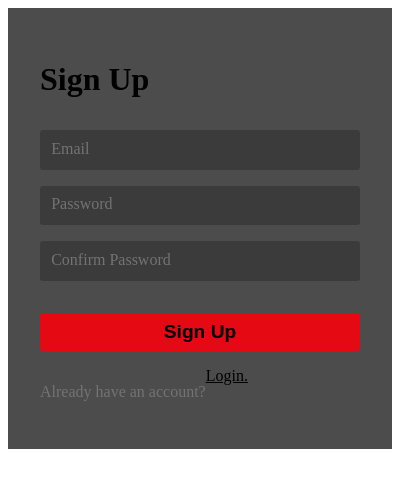
Scenario: SignUp Test › check password length error
Expected: the number of headings "Sign Up" is 2, [40, 61, 149, 97]; [40, 313, 360, 351]
In the field with test id "email": (202, 150) [51, 142, 353, 159], type "prathapskt@gmail.com"
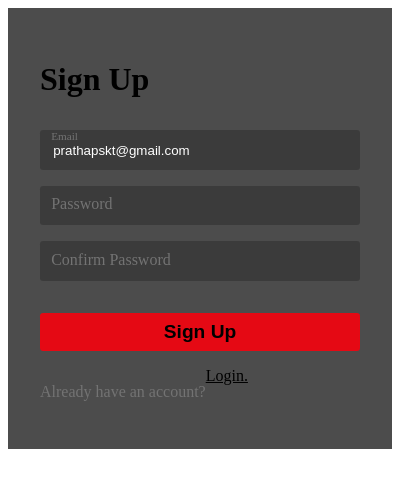
In the password field with test id "password": (202, 206) [51, 197, 353, 214], type "123"
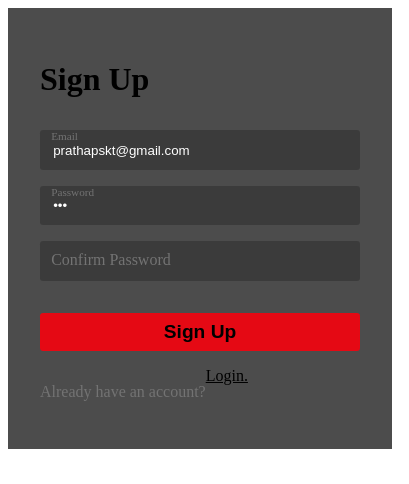
In the password field with test id "confirmPassword": (202, 261) [51, 252, 353, 269], type "123"
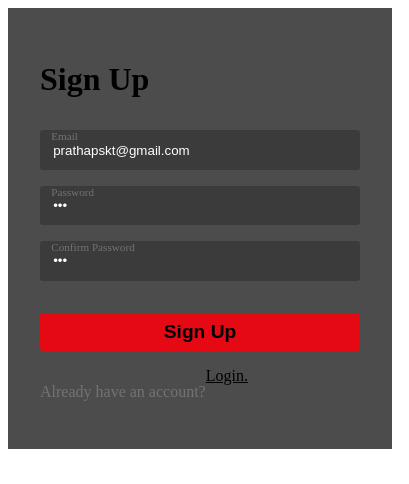
Click the button with test id "sign-up": click(200, 332) [40, 313, 360, 351]
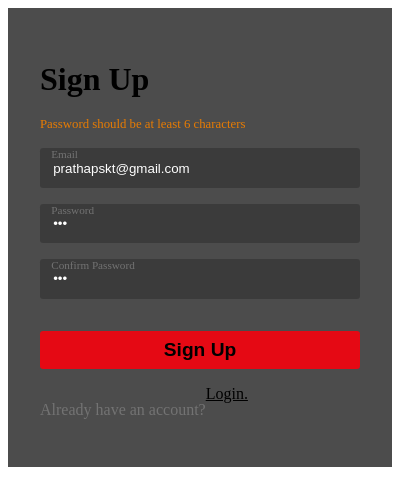
Expected: the text "Password should be at least 6 characters" is shown, [40, 117, 245, 131]
